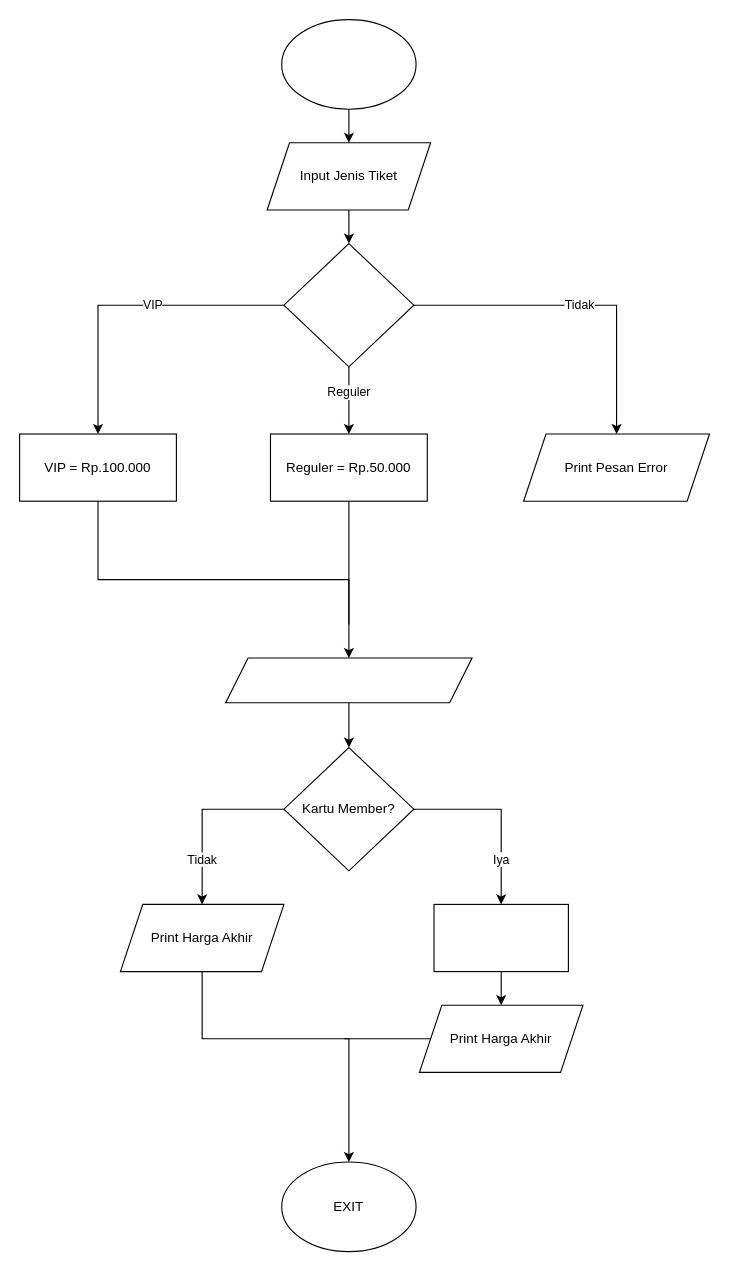
This 729x1271 diagram has some shape labels left out. The shapes that lost their labels are listed below. From the top down, each one's centre as x and y in pixels, then its label:
point 348,63: START
point 348,304: Jenis Tiket Valid?
point 348,680: Input Status Member
point 500,937: Harga Tiket = (Harga Tiket * 0,20)
